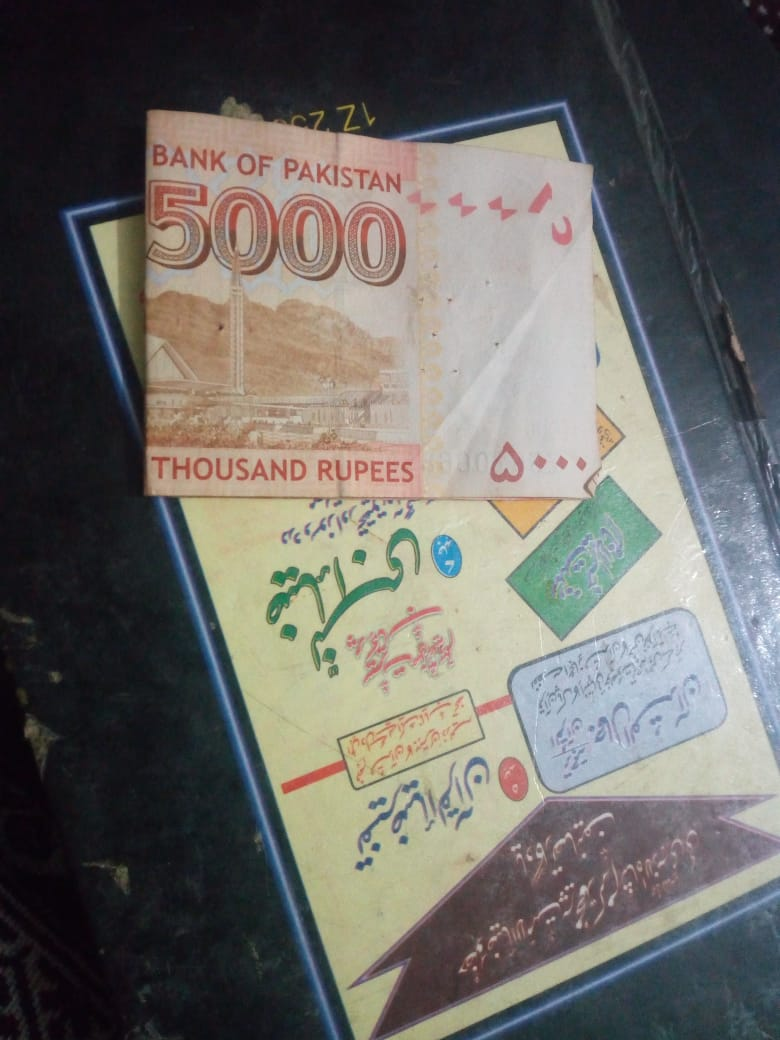5000 rupee: (105, 73, 620, 505)
